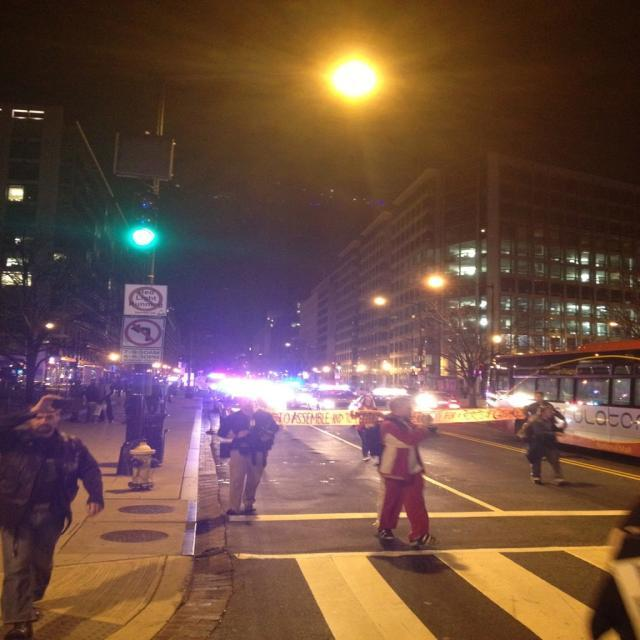traffic light: (127, 189, 165, 253)
